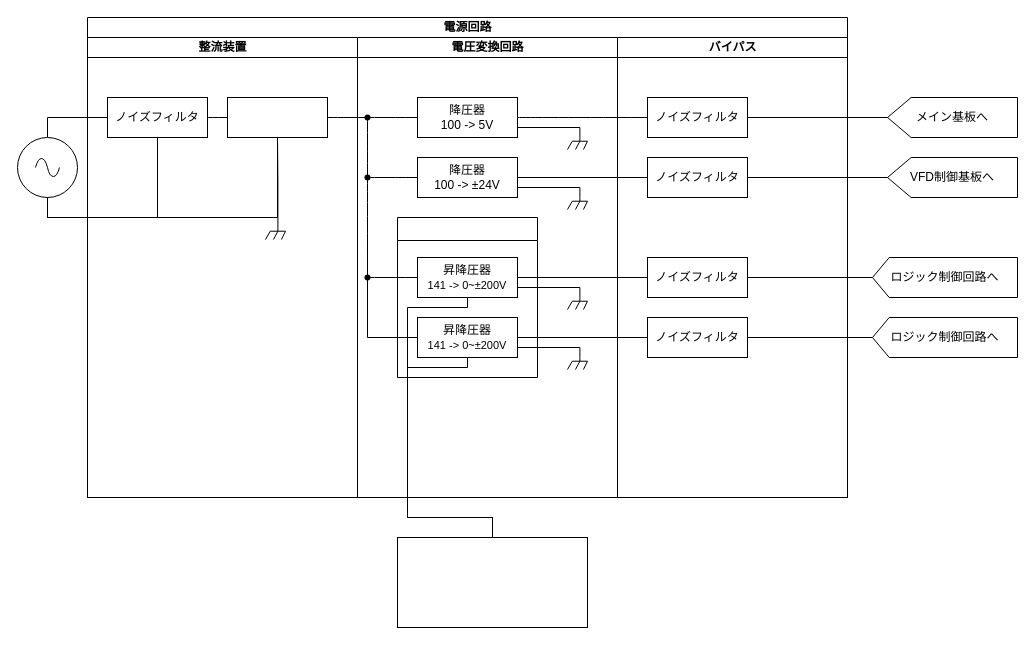
The diagram is 1035 pixels wide and 645 high, and some of its shapes have lost their labels. The shapes that lost their labels are listed below. From the top down, each one's centre as x and y in pixels, then its label:
[277,117]: 整流器
[467,297]: ロジック電源
[492,582]: FPGA 電圧指令 コンフィグレーション
